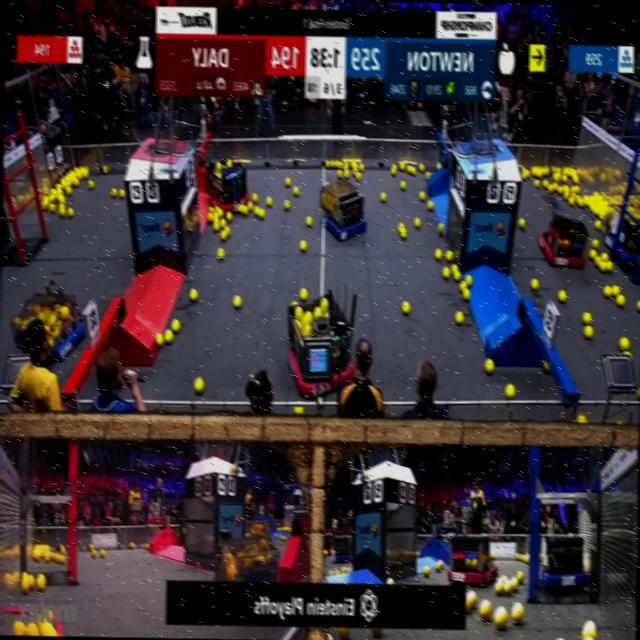ball_ground: (618, 336, 629, 351), (193, 377, 203, 393), (614, 292, 625, 306), (170, 318, 180, 333), (583, 324, 593, 339), (504, 383, 514, 397), (581, 310, 591, 324), (484, 358, 493, 373), (454, 310, 464, 323), (602, 284, 612, 297), (556, 289, 566, 302), (401, 300, 410, 314), (530, 277, 539, 291), (232, 295, 241, 308), (164, 329, 173, 342), (155, 334, 164, 347), (398, 225, 407, 238), (189, 288, 198, 300), (611, 284, 620, 296), (588, 247, 597, 259), (299, 288, 307, 301), (57, 203, 65, 216), (601, 200, 609, 213), (216, 247, 224, 259), (462, 287, 470, 299), (593, 256, 602, 266), (452, 269, 460, 280), (445, 249, 453, 260), (219, 217, 227, 228), (66, 206, 74, 217), (517, 217, 525, 228), (605, 260, 613, 271), (598, 260, 606, 271), (530, 165, 538, 176), (590, 238, 599, 247), (459, 280, 466, 291), (434, 248, 441, 259), (299, 239, 306, 250), (252, 204, 259, 215), (241, 204, 248, 215), (536, 166, 543, 177), (576, 196, 584, 205), (591, 206, 599, 215), (465, 275, 472, 285), (305, 216, 312, 226), (426, 199, 433, 209), (251, 192, 258, 202), (225, 211, 232, 221), (219, 229, 226, 239), (216, 206, 223, 216), (58, 206, 65, 216), (594, 219, 601, 229), (563, 189, 570, 199), (582, 194, 589, 204), (598, 209, 605, 219), (284, 175, 290, 186), (224, 225, 230, 236), (72, 175, 78, 186), (600, 252, 608, 260), (541, 167, 549, 175), (442, 268, 449, 277), (397, 221, 404, 230), (283, 199, 290, 208), (292, 186, 299, 195), (418, 163, 425, 172), (118, 188, 125, 197), (110, 187, 117, 196), (101, 163, 108, 172), (87, 179, 94, 188), (48, 202, 55, 211), (547, 183, 554, 192), (572, 184, 579, 193), (561, 173, 568, 182), (572, 173, 579, 182), (565, 166, 572, 175), (562, 183, 569, 192), (414, 217, 420, 227), (266, 195, 272, 205), (258, 208, 264, 218), (206, 211, 212, 221), (246, 201, 253, 209), (556, 185, 563, 193), (539, 167, 546, 175), (212, 204, 217, 215), (437, 223, 443, 232), (380, 191, 386, 200), (399, 180, 405, 189), (343, 168, 349, 177), (237, 203, 243, 212), (65, 186, 71, 195), (542, 178, 548, 187), (597, 193, 604, 200), (399, 161, 405, 169), (358, 162, 364, 170), (354, 171, 360, 179), (324, 159, 330, 167), (329, 158, 335, 166), (568, 196, 574, 204), (533, 179, 539, 187), (550, 165, 556, 173), (570, 190, 576, 198), (450, 264, 457, 270), (592, 190, 599, 196), (419, 191, 424, 199), (343, 160, 348, 168), (425, 171, 430, 178), (411, 166, 416, 173), (406, 164, 411, 171), (337, 169, 342, 176), (208, 205, 213, 211)
goal: (126, 113, 192, 154), (461, 110, 518, 150)
robot_blue: (8, 280, 86, 364), (316, 179, 366, 240), (538, 535, 588, 590), (601, 205, 640, 264), (330, 532, 352, 562)
robot_red: (285, 286, 354, 400), (444, 532, 500, 583), (536, 212, 588, 264), (205, 157, 248, 212)
